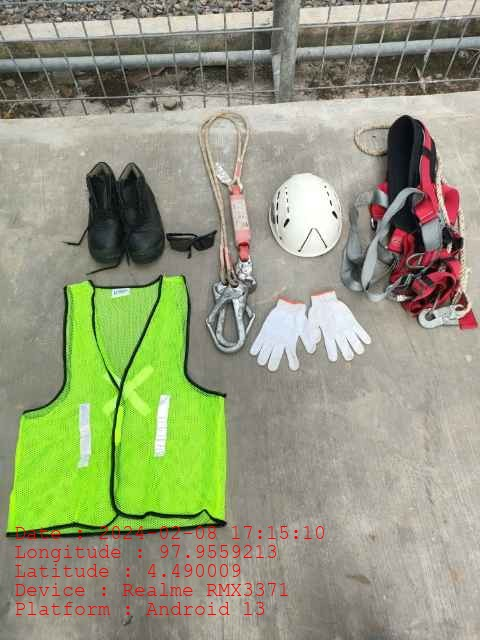HELM: (269, 173, 343, 257)
ROMPI: (21, 279, 224, 527)
SARUNG_TANGAN: (308, 288, 371, 362), (251, 299, 312, 371)
SEPATU: (84, 162, 164, 264)
TAMBANG_SLING: (198, 112, 258, 356)
